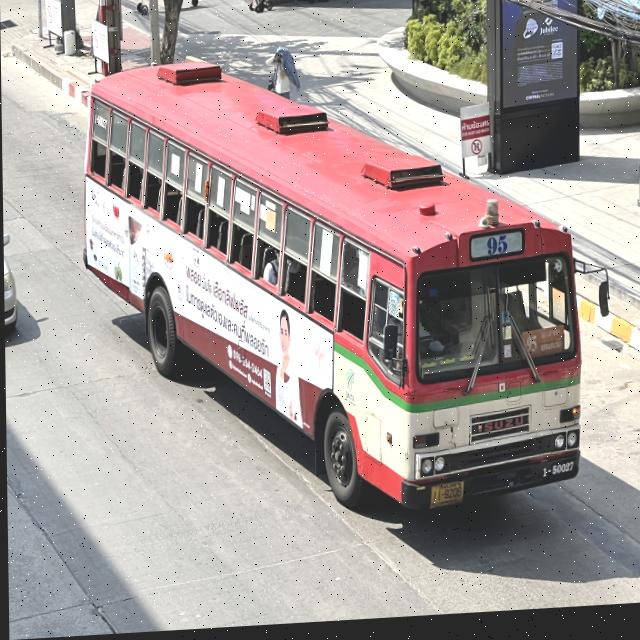BMTA-bus: (80, 44, 583, 536)
Bus-Line-Number: (468, 232, 524, 271)
Destination-Sign-Normal: (521, 332, 564, 362)
